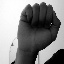a: (15, 1, 62, 52)
